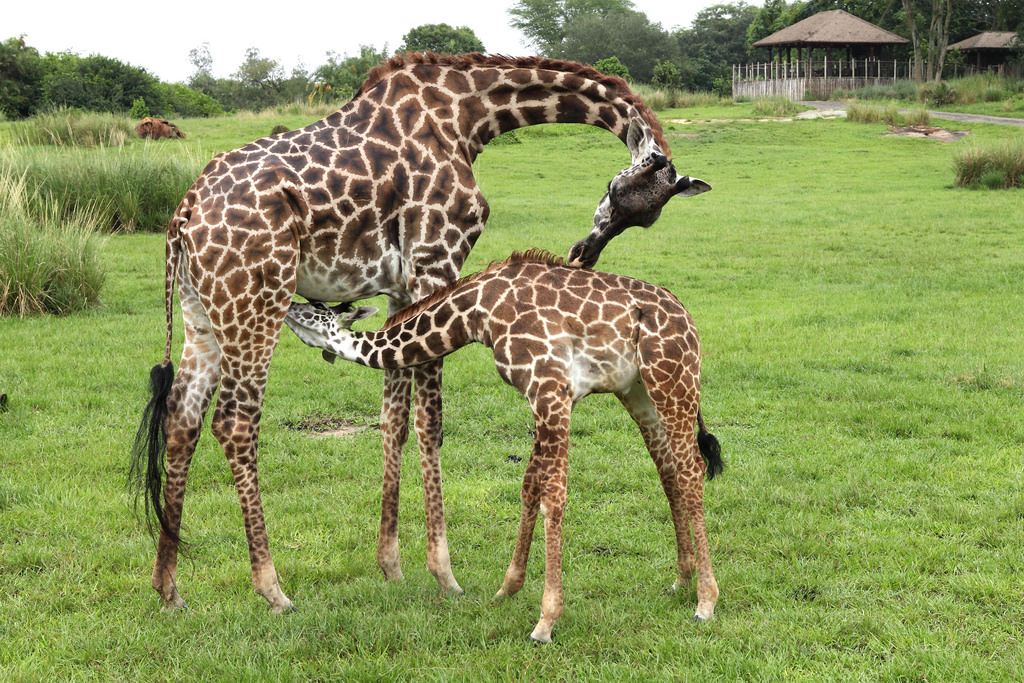giraffe: (124, 19, 676, 654), (306, 288, 765, 660)
